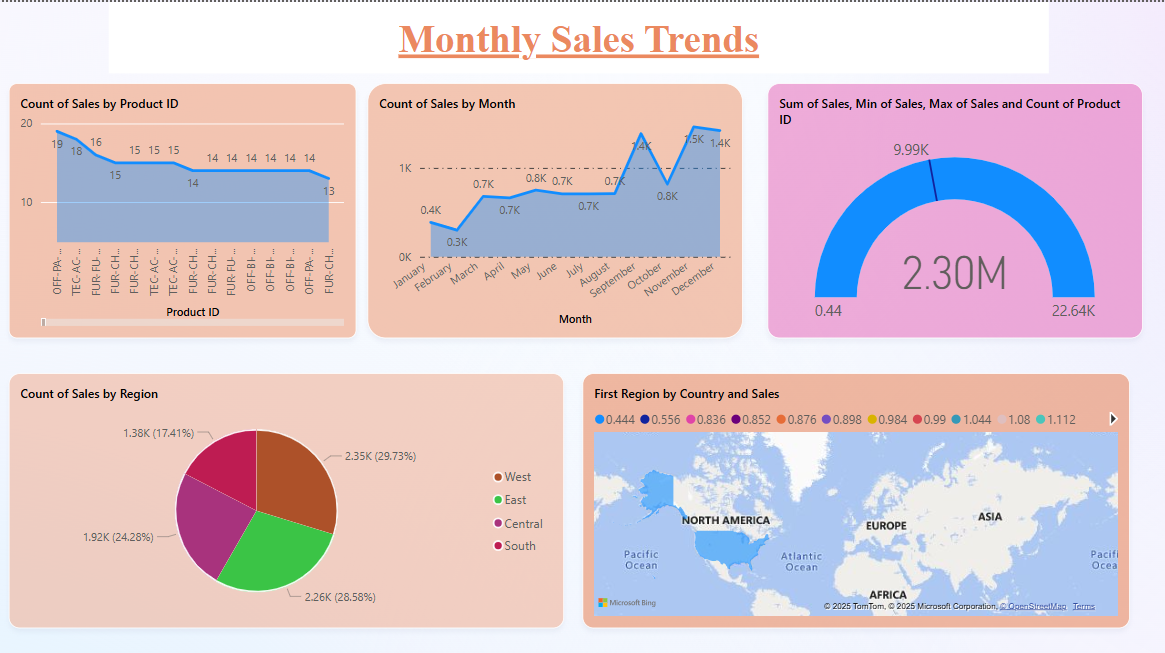

The page's visual inventory and layout, read from the dashboard file:
{"tool":"powerbi","page":{"name":"Monthly Sales Trends","canvas":[1280,720],"ordinal":0},"visuals":[{"type":"lineChart","fields":{"Y":["CountNonNull(Orders.Sales)"],"Category":["Orders.Product ID"]},"box":[9.6,89.2,381.5,279.9],"z":0},{"type":"pieChart","fields":{"Y":["Count(Orders.Sales)"],"Category":["Orders.Region"]},"box":[9.6,407.5,609.3,279.9],"z":1000},{"type":"lineChart","fields":{"Category":["Orders.Order Date.Variation.Date Hierarchy.Month"],"Y":["CountNonNull(Orders.Sales)"]},"box":[403.4,89.2,411.7,279.9],"z":2000},{"type":"filledMap","fields":{"Category":["Orders.Country"],"Y":["Min(Orders.Region)"],"Series":["Orders.Sales"]},"box":[639.5,407.5,601,279.9],"z":3000},{"type":"gauge","fields":{"Y":["Sum(Orders.Sales)"],"MinValue":["Min(Orders.Sales)"],"MaxValue":["Max(Orders.Sales)"],"TargetValue":["CountNonNull(Orders.Product ID)"]},"box":[842.5,89.2,411.7,279.9],"z":4000},{"type":"textbox","box":[119.4,0,1031.9,78.2],"z":5000}]}

Visuals, with their boxes in screenshot pixels (x1, y1, x2, y2), scaled from the page's 1280x720 canvas onto the 1165x653 screenshot:
lineChart - CountNonNull(Orders.Sales) x Orders.Product ID: BBox(9, 81, 356, 335)
pieChart - Count(Orders.Sales) x Orders.Region: BBox(9, 370, 563, 623)
lineChart - Orders.Order Date.Variation.Date Hierarchy.Month x CountNonNull(Orders.Sales): BBox(367, 81, 742, 335)
filledMap - Orders.Country x Min(Orders.Region): BBox(582, 370, 1129, 623)
gauge - Sum(Orders.Sales) x Min(Orders.Sales): BBox(767, 81, 1142, 335)
textbox: BBox(109, 0, 1048, 71)
